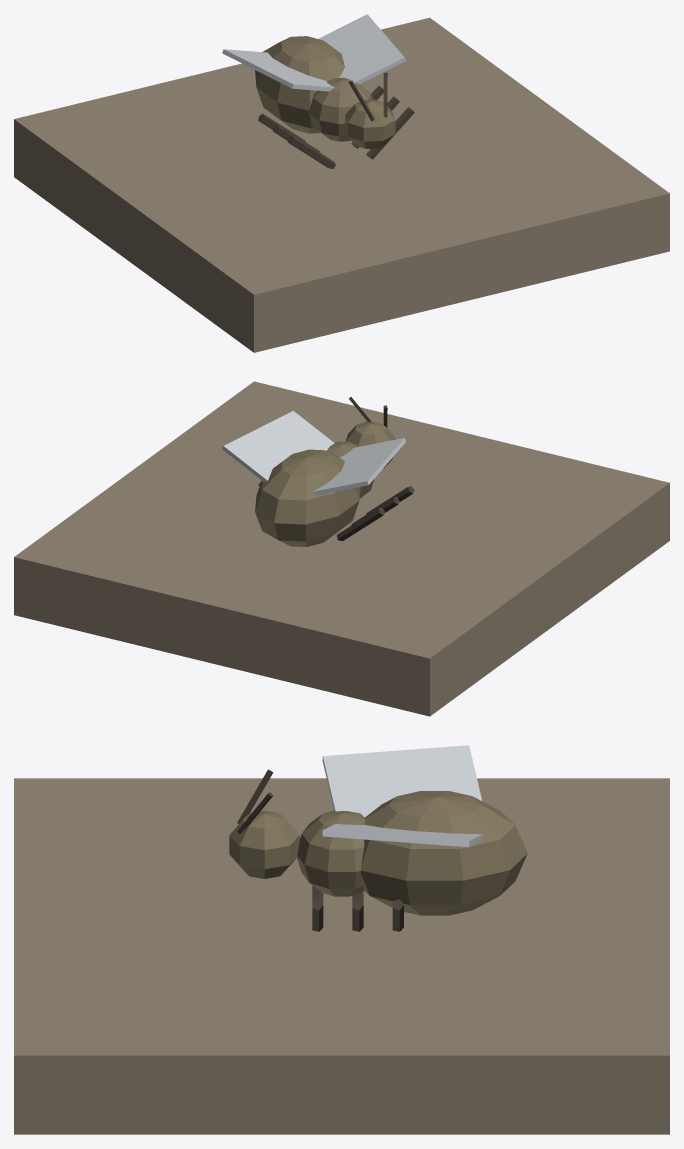
File: bug_lantern.glb
3 renders of one model, top to bottom at view 1: azimuth 30°, elevation 25°; view 2: azimuth 150°, elevation 25°; view 3: azimuth 270°, elevation 25°, orthographic. The views are drawn at different scales.
Parts seen in each view (by area): view 1: Base, TurretMesh, HeadMesh; view 2: Base, TurretMesh, HeadMesh; view 3: Base, TurretMesh, HeadMesh.
Part boxes in pixels (x1=…): Base: x1=14, y1=17, x2=669, y2=352; TurretMesh: x1=222, y1=14, x2=414, y2=168; HeadMesh: x1=345, y1=72, x2=395, y2=148; Base: x1=14, y1=381, x2=669, y2=716; TurretMesh: x1=222, y1=411, x2=414, y2=546; HeadMesh: x1=345, y1=397, x2=395, y2=468; Base: x1=14, y1=778, x2=669, y2=1134; TurretMesh: x1=297, y1=745, x2=527, y2=931; HeadMesh: x1=229, y1=769, x2=299, y2=878.
Bounding box in the file's own units: 1.8 × 0.6502 × 1.8.
